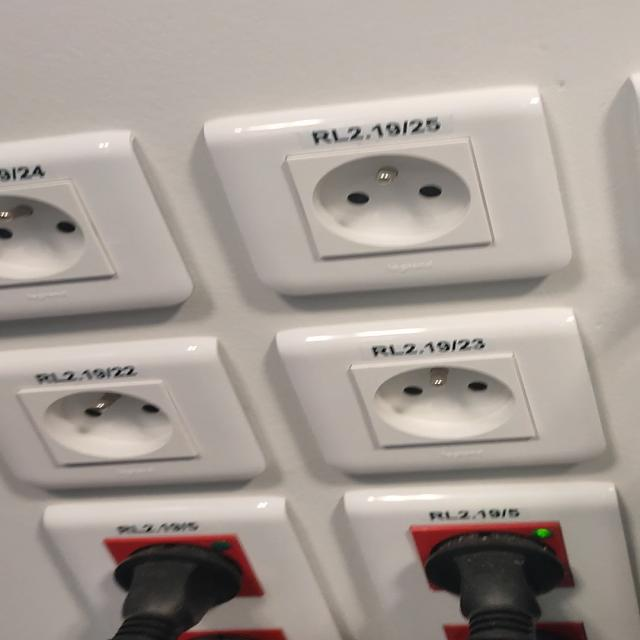house plug: (284, 137, 495, 261), (354, 352, 537, 448), (22, 379, 197, 466), (0, 179, 117, 288)
